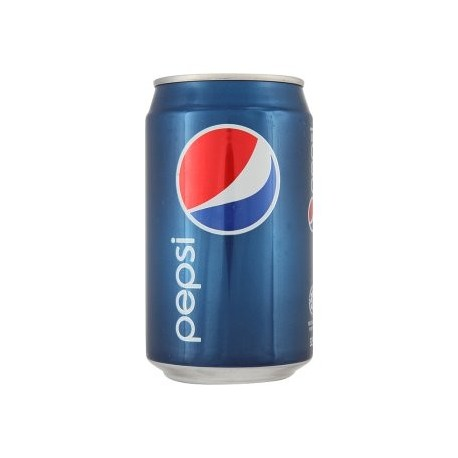pepsi: (177, 126, 276, 230), (181, 126, 276, 230)
